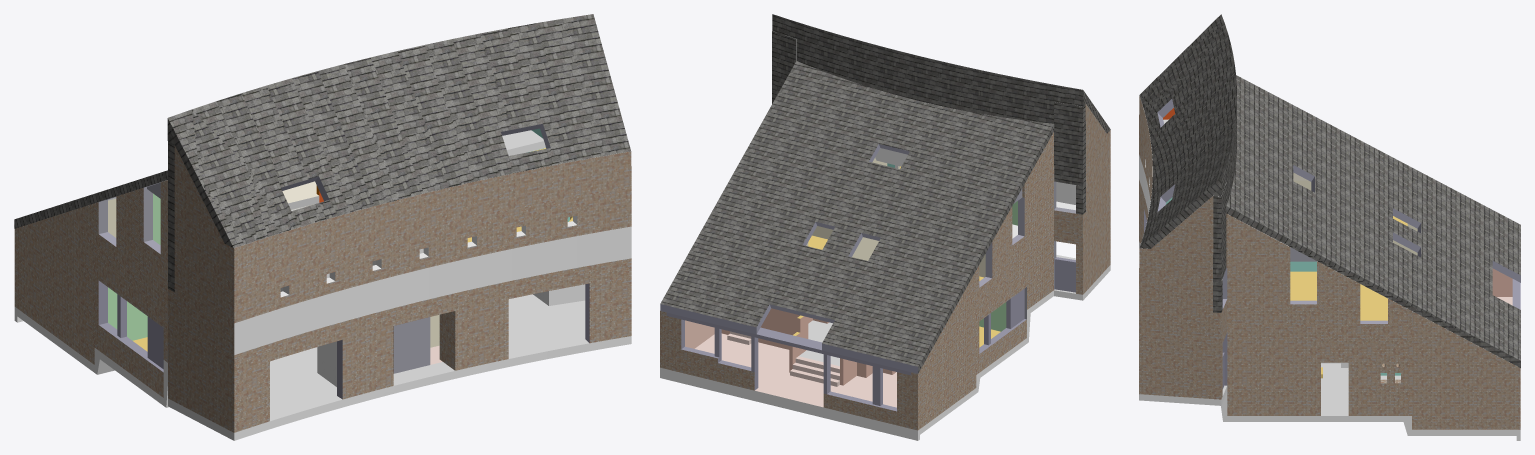
File: Full.dae
3 views of the same model, side by side, from view 1: azimuth 30°, elevation 25°; view 2: azimuth 150°, elevation 25°; view 3: azimuth 270°, elevation 25° (orthographic). The views are drawn at different scales.
Parts seen in each view (by area): view 1: 03_D, 00_BG, 01_EV, 02_TV.001; view 2: 03_D, 00_BG, 01_EV, 02_TV.001; view 3: 03_D, 00_BG, 01_EV, 02_TV.001.
Part boxes in pixels (bbox=[...]): 03_D: bbox=[14, 14, 631, 248]; 00_BG: bbox=[14, 207, 631, 440]; 01_EV: bbox=[83, 147, 631, 355]; 02_TV.001: bbox=[147, 128, 631, 284]; 03_D: bbox=[660, 14, 1110, 373]; 00_BG: bbox=[660, 208, 1110, 440]; 01_EV: bbox=[806, 156, 1110, 314]; 02_TV.001: bbox=[772, 31, 1110, 203]; 03_D: bbox=[1139, 14, 1520, 367]; 00_BG: bbox=[1139, 180, 1520, 440]; 01_EV: bbox=[1139, 124, 1417, 344]; 02_TV.001: bbox=[1139, 96, 1316, 282].
Bounding box in the file's own units: 0.1401 × 0.1377 × 0.1106.
Materials: 73 (7 with a texture image).
